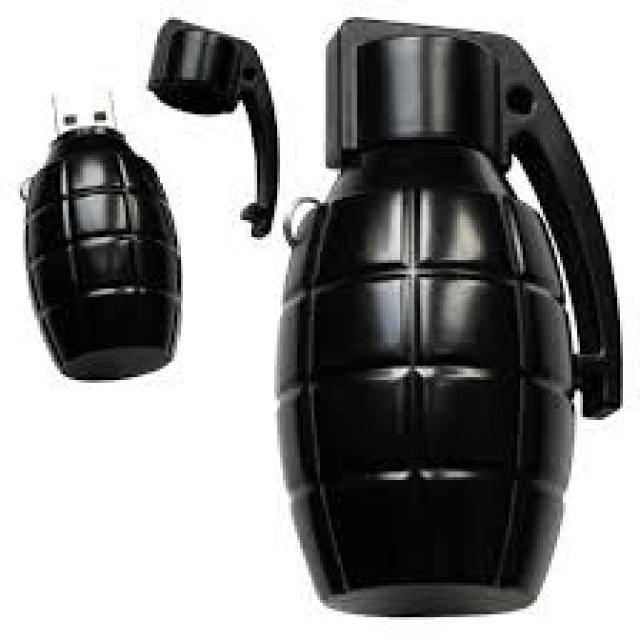grenade: (253, 12, 633, 625)
